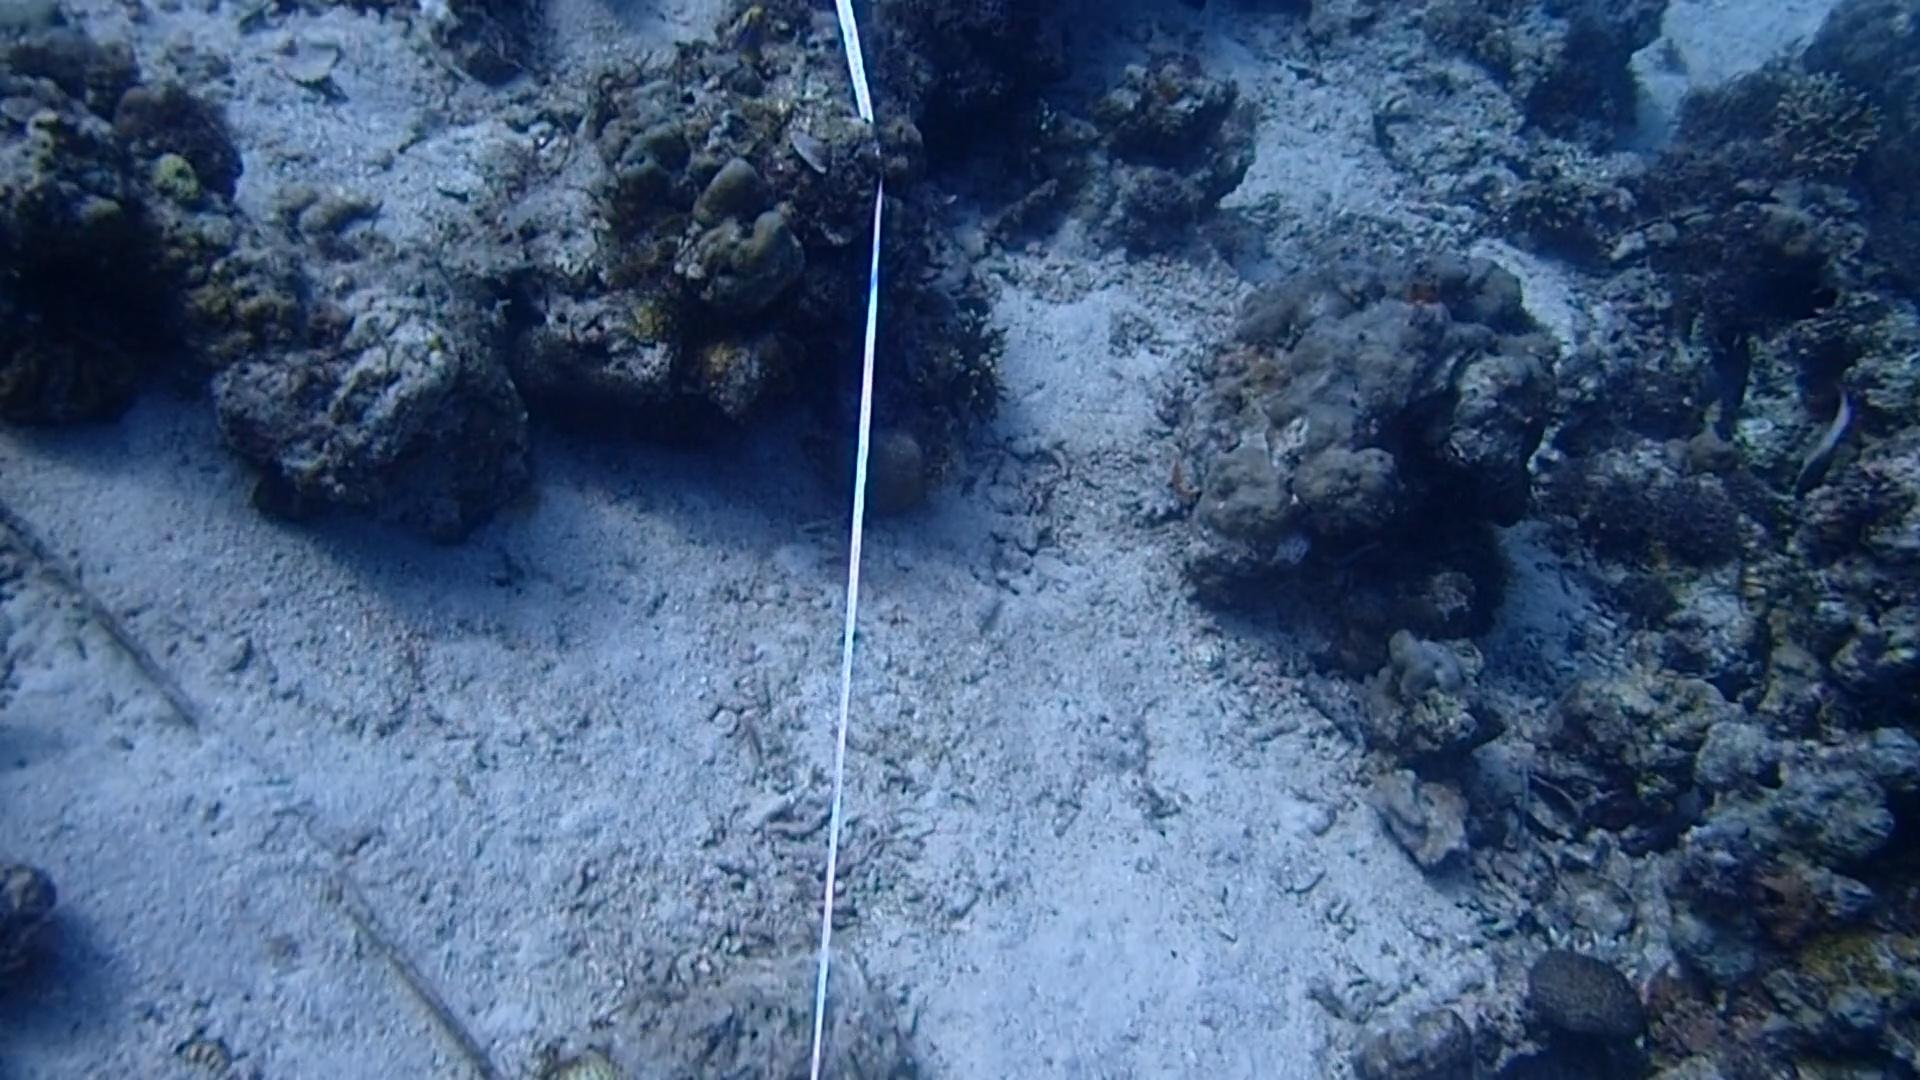Dark Fish: (1705, 251, 1838, 327), (1696, 320, 1771, 410)
